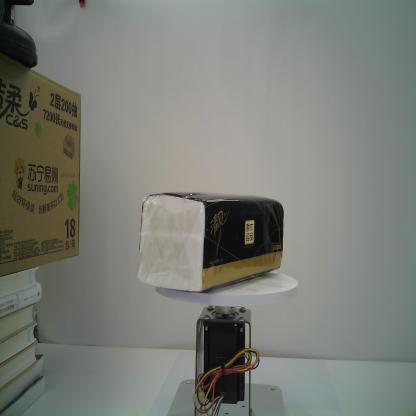Tissue: (137, 191, 285, 293)
